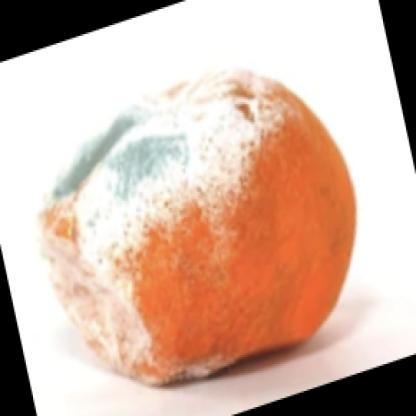rotten: (43, 70, 356, 383)
